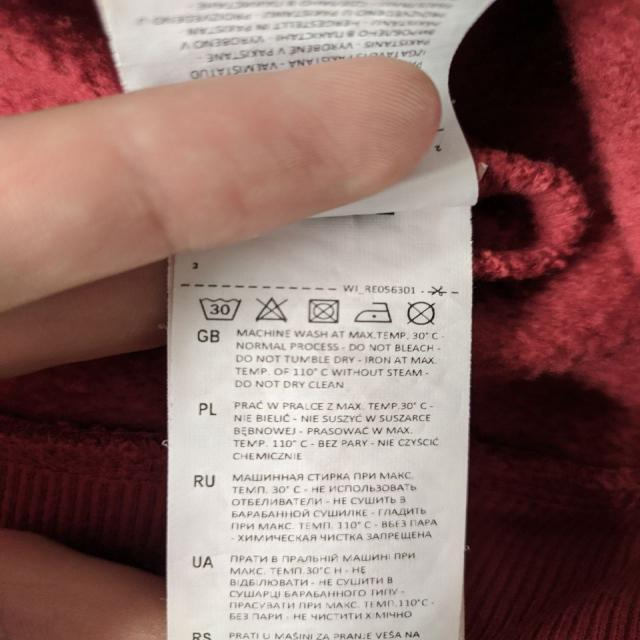30C: (198, 292, 242, 324)
DN_bleach: (255, 296, 291, 324)
DN_dry_clean: (403, 298, 440, 327)
DN_tumble_dry: (305, 298, 342, 324)
iron_low: (354, 299, 392, 323)
